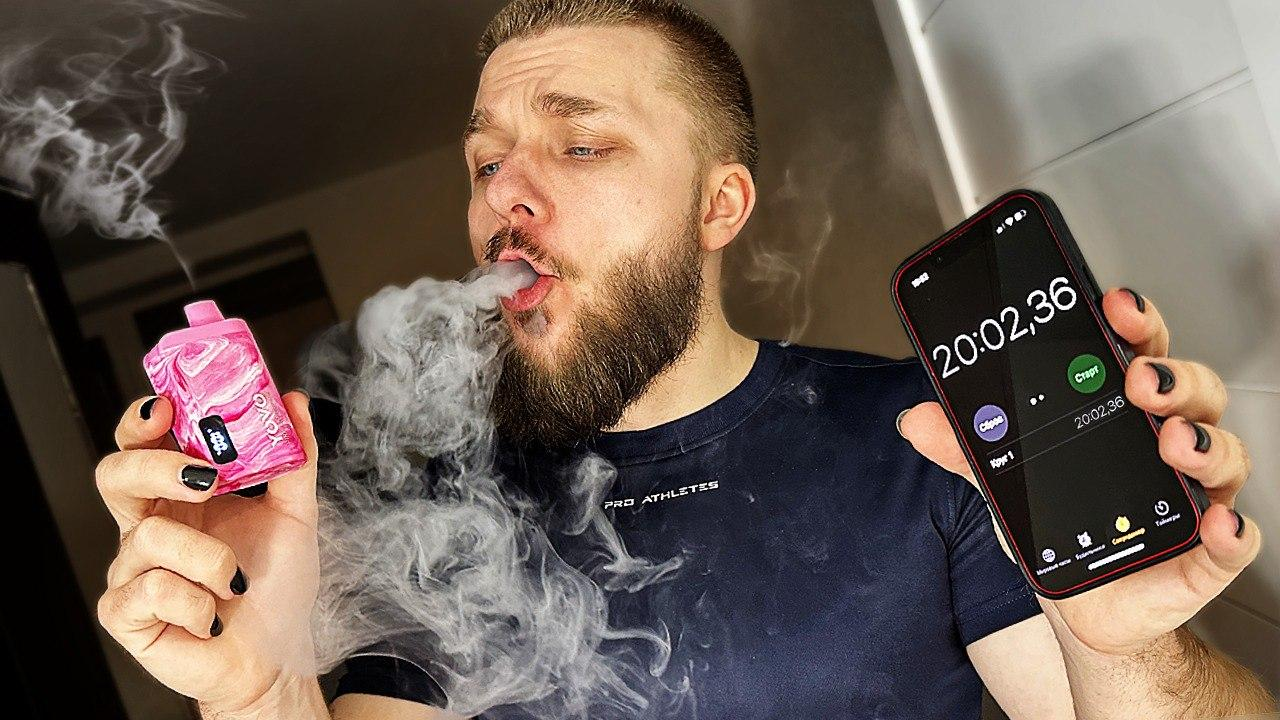Vape: (144, 301, 304, 493)
